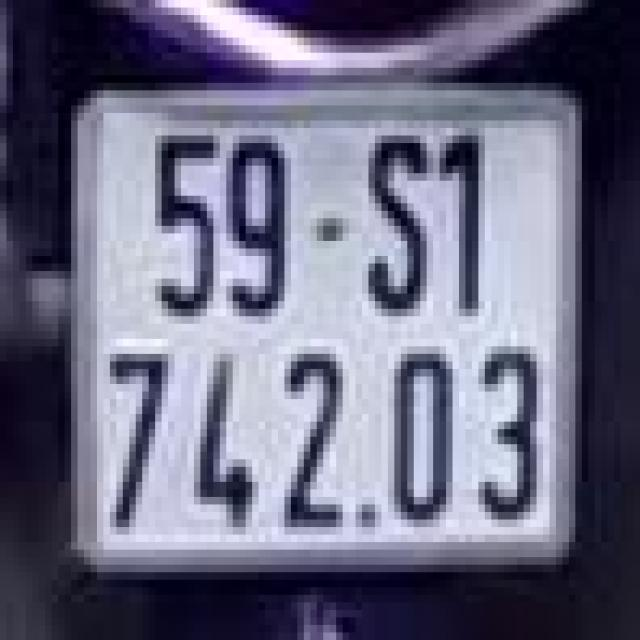0: (385, 339, 462, 527)
1: (436, 128, 494, 324)
2: (268, 350, 359, 538)
3: (462, 338, 540, 534)
4: (188, 346, 258, 527)
5: (139, 124, 217, 320)
7: (87, 350, 178, 538)
9: (223, 124, 288, 320)
S: (365, 124, 430, 320)
